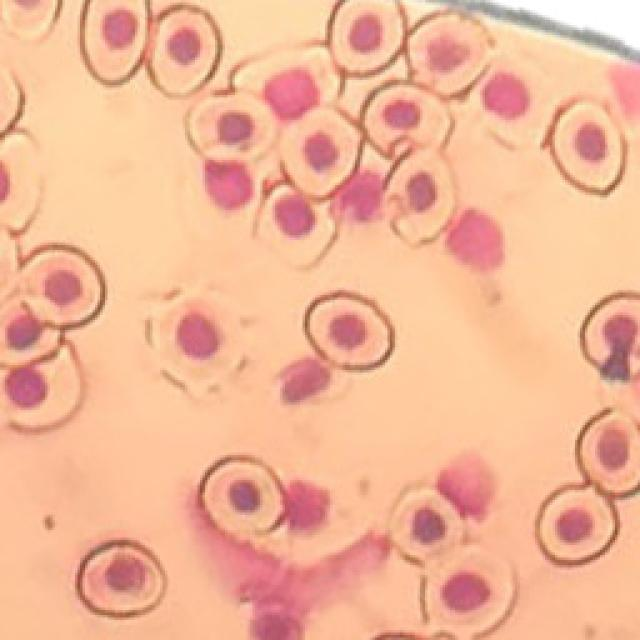RBC: (145, 291, 245, 398), (424, 546, 515, 640), (231, 46, 340, 122), (280, 106, 362, 199), (200, 456, 285, 541), (0, 341, 82, 429), (21, 244, 105, 329), (408, 11, 491, 96), (76, 540, 166, 618), (385, 150, 455, 245), (149, 5, 222, 96), (550, 101, 622, 193), (305, 292, 392, 368), (362, 82, 451, 156), (258, 184, 336, 268), (536, 485, 618, 564), (186, 91, 278, 161), (479, 60, 552, 148), (81, 0, 149, 84), (329, 0, 404, 74), (390, 488, 464, 562), (578, 409, 640, 496), (580, 292, 640, 381), (0, 298, 61, 368), (0, 131, 41, 232), (0, 0, 61, 39)
WBC: (436, 451, 495, 519), (448, 209, 504, 270), (331, 167, 385, 222), (204, 160, 252, 208), (280, 358, 331, 402), (285, 480, 330, 529), (251, 612, 300, 640)
